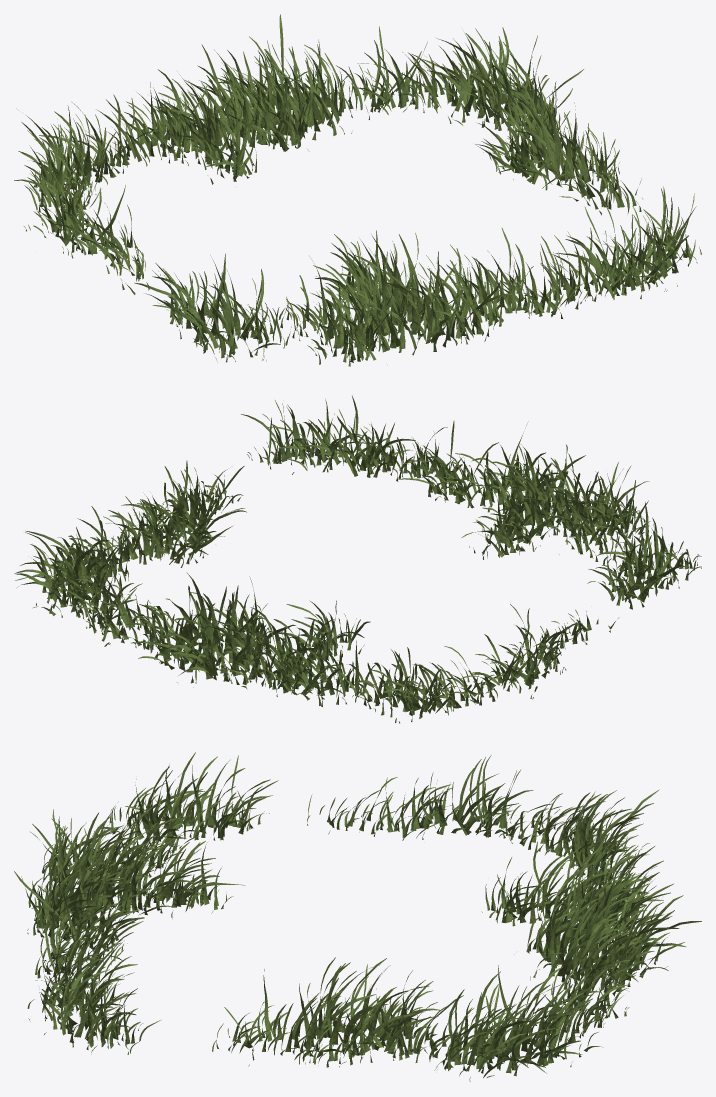
The model's file is Grass-01.OBJ.
The picture shows the model from 3 angles, top to bottom: view 1: azimuth 30°, elevation 25°; view 2: azimuth 150°, elevation 25°; view 3: azimuth 270°, elevation 25°; orthographic projection. The views are drawn at different scales.
Visible parts, largest first — view 1: Group33337; view 2: Group33337; view 3: Group33337.
Part boxes in pixels (x1,y1,x2,y2): Group33337: (14,14,701,366); Group33337: (14,395,701,723); Group33337: (14,752,701,1081).
Size of the model in its own units: 165 by 28.23 by 164.
